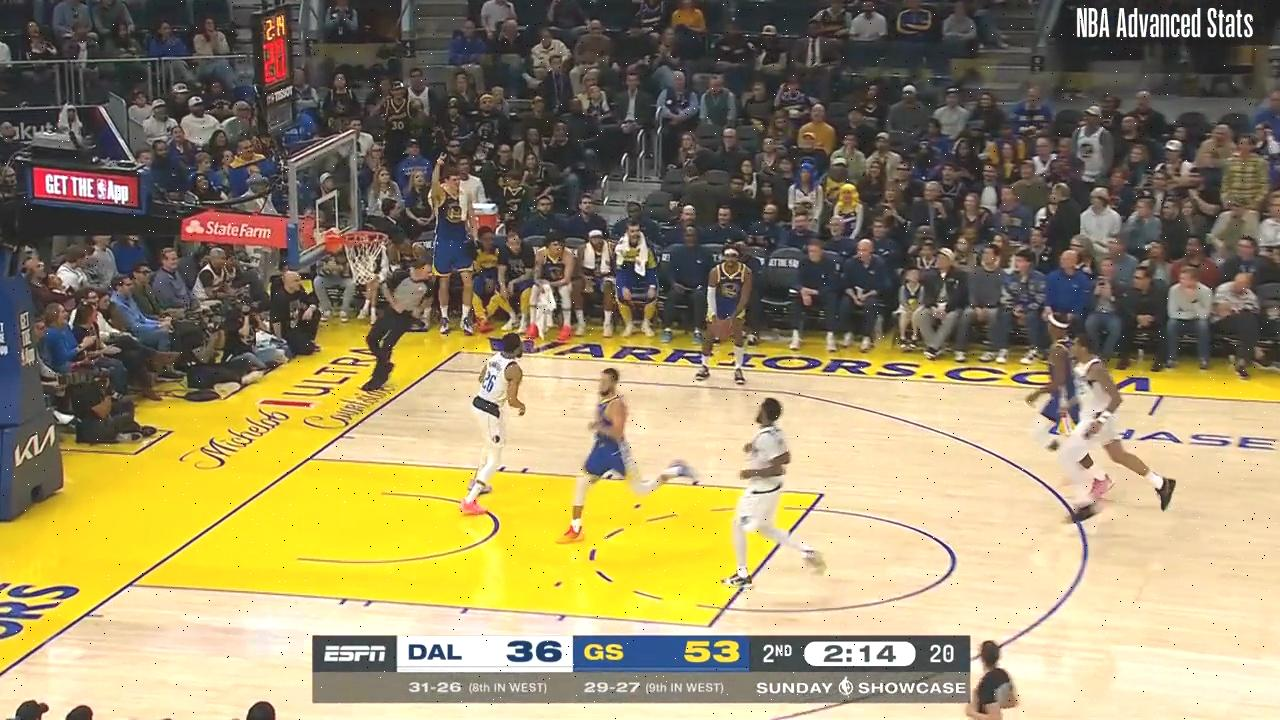basketball: (709, 316, 735, 344)
